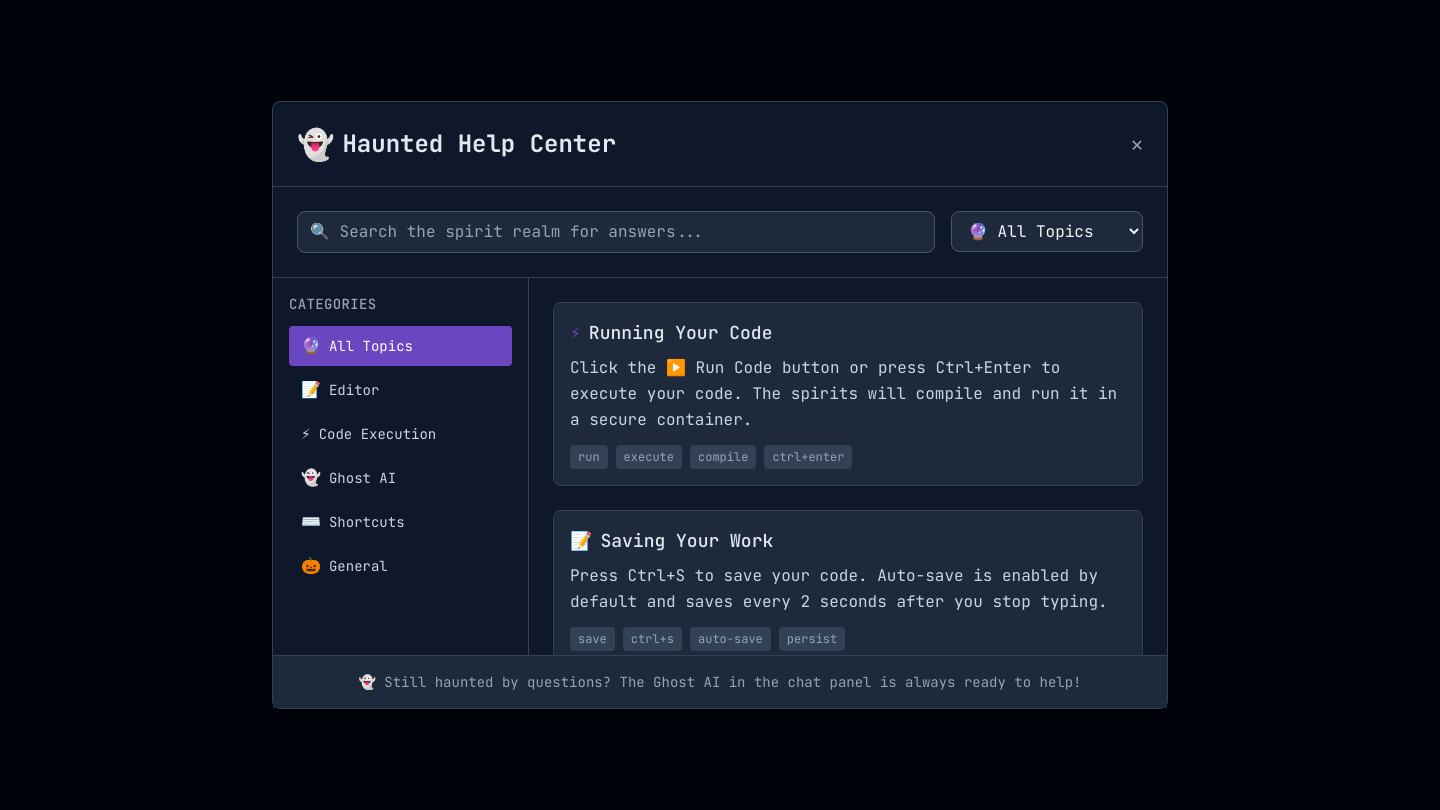
Test: HelpSystem › filters help items by search term
The width and height of the screenshot is (1440, 810).
Search for specific term
Type "keyboard" into the field with placeholder "🔍 Search the spirit realm for answers...".
click(616, 232); type("keyboard")  # box [297, 211, 935, 253]
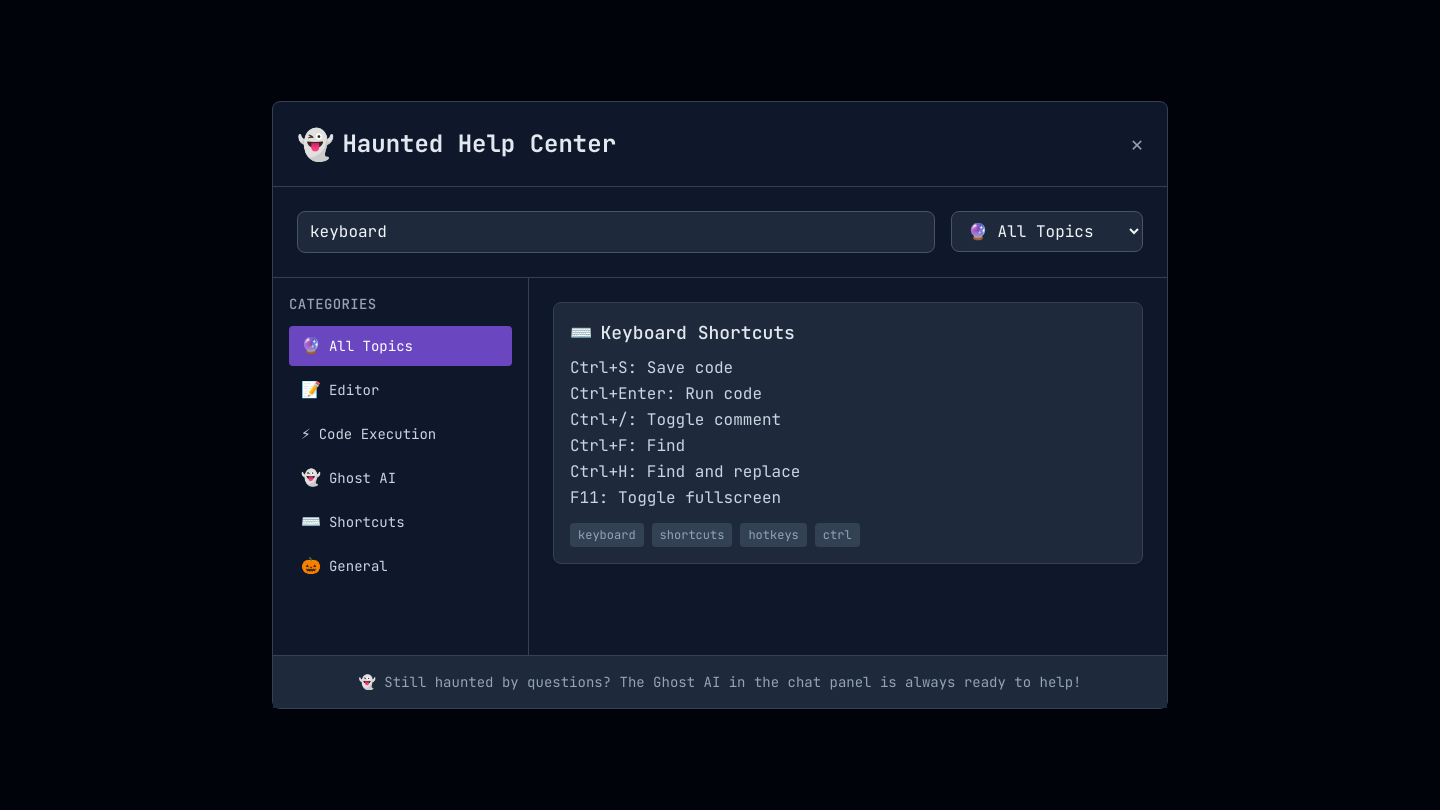
Now the text "Keyboard Shortcuts" is shown, box [600, 319, 795, 347]
